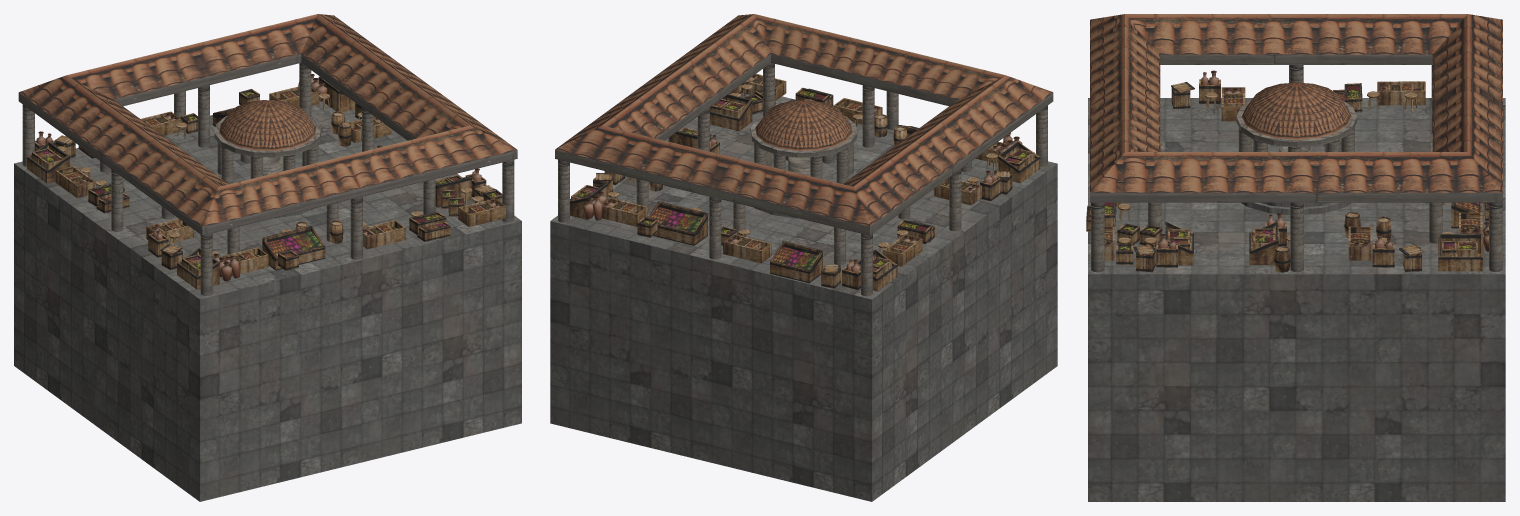
The model's file is iber_market.dae.
The picture shows the model from 3 angles, left to right: view 1: azimuth 30°, elevation 25°; view 2: azimuth 150°, elevation 25°; view 3: azimuth 270°, elevation 25°; orthographic projection. The views are drawn at different scales.
Parts seen in each view (by area): view 1: Market; view 2: Market; view 3: Market.
Part boxes in pixels (left/top/right/bottom): Market: left=14, top=14, right=521, bottom=501; Market: left=550, top=14, right=1057, bottom=501; Market: left=1086, top=14, right=1505, bottom=501.
Bounding box in the file's own units: 35.61 × 35.76 × 31.11.
